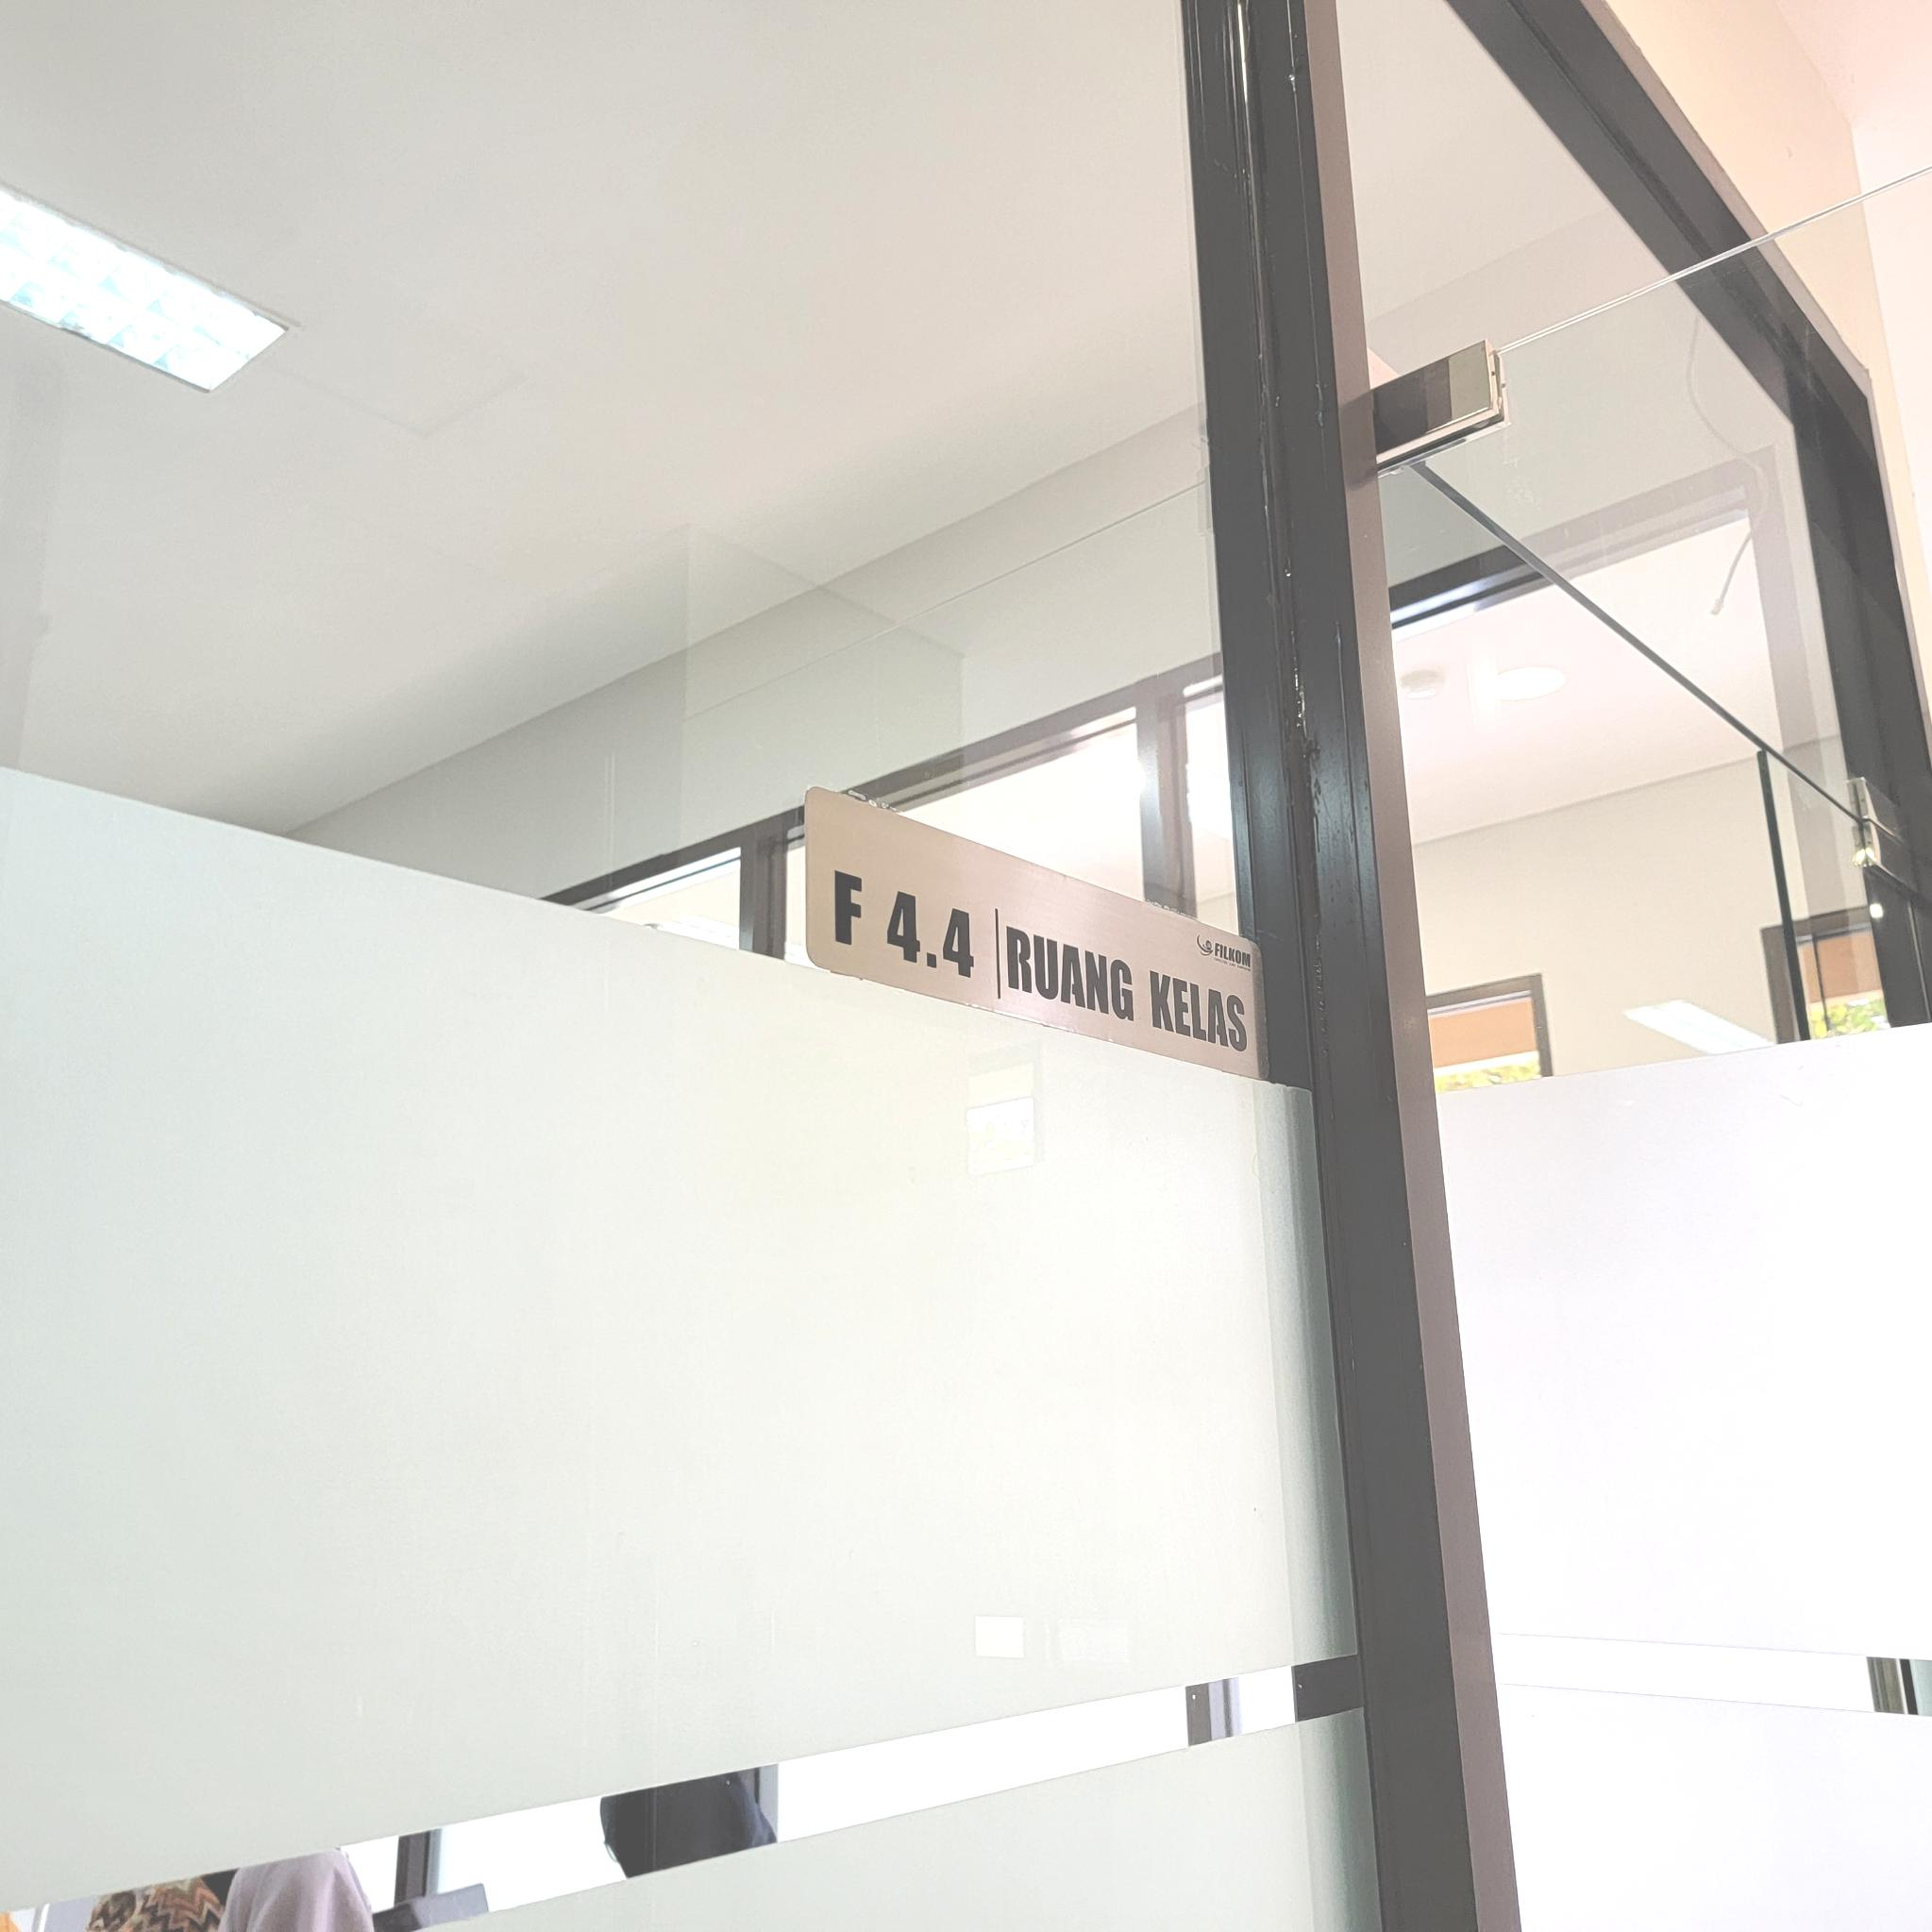plate: (807, 786, 1270, 1085)
